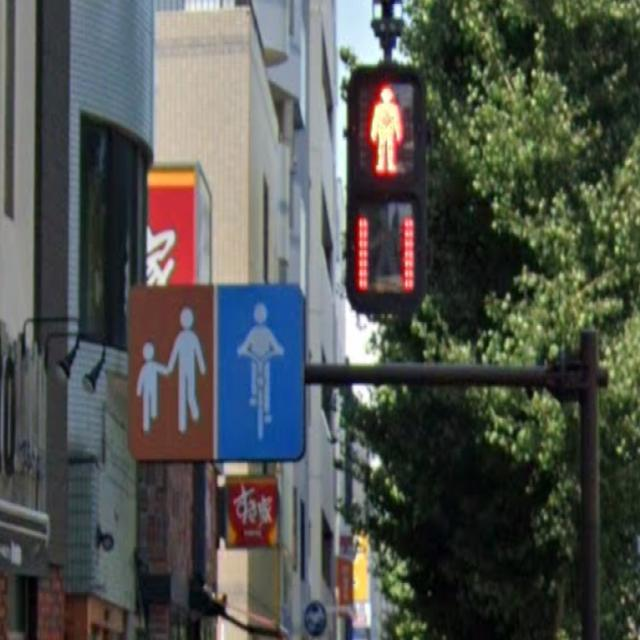traffic-light: (348, 65, 427, 304)
